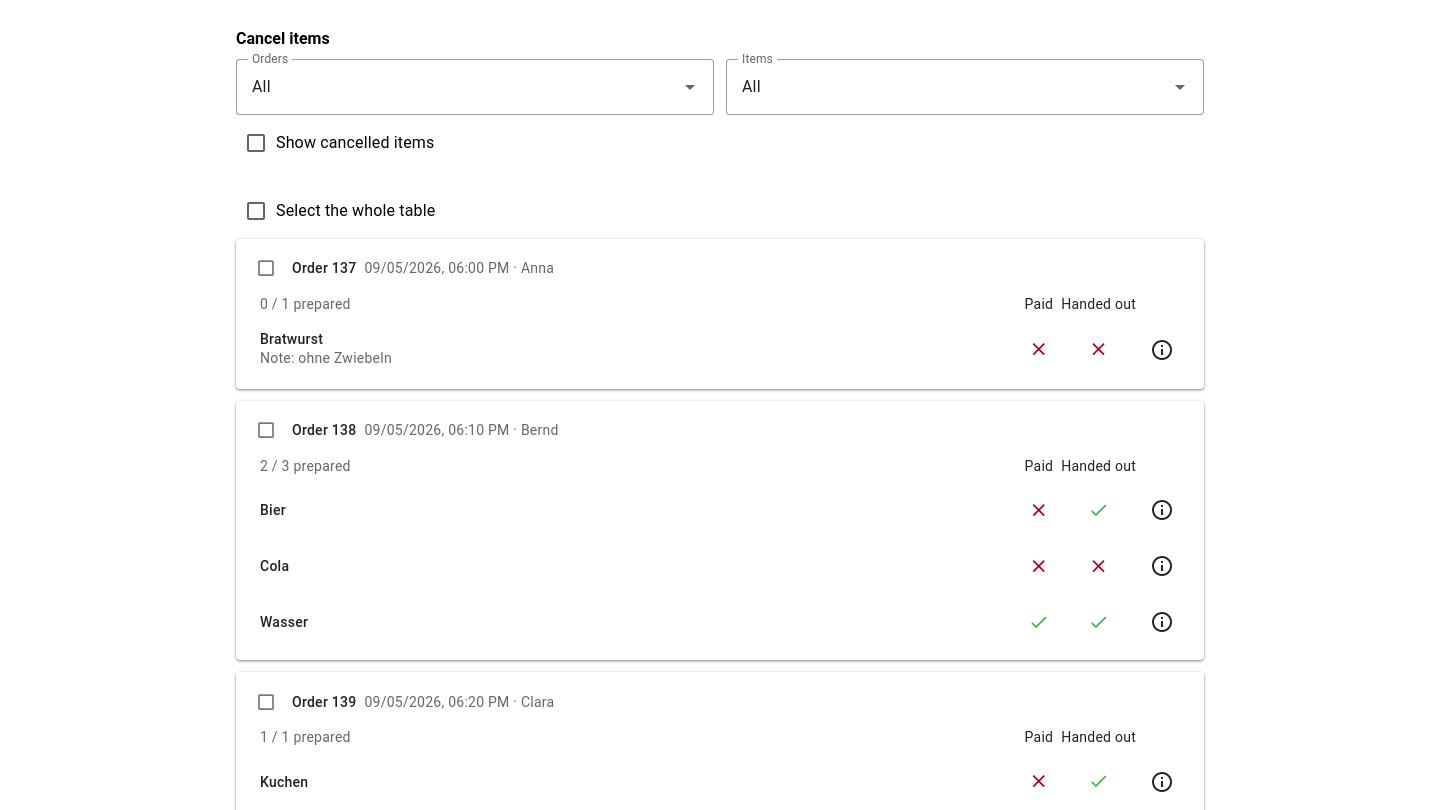
Test: the page that confirms the cancellation › says it in English on an English phone
This screenshot has width=1440, height=810.
What coordinates should you click on to do the following:
click the element showing "Wasser"
I would click on:
 (284, 622)
Its box is [252, 600, 1188, 644].
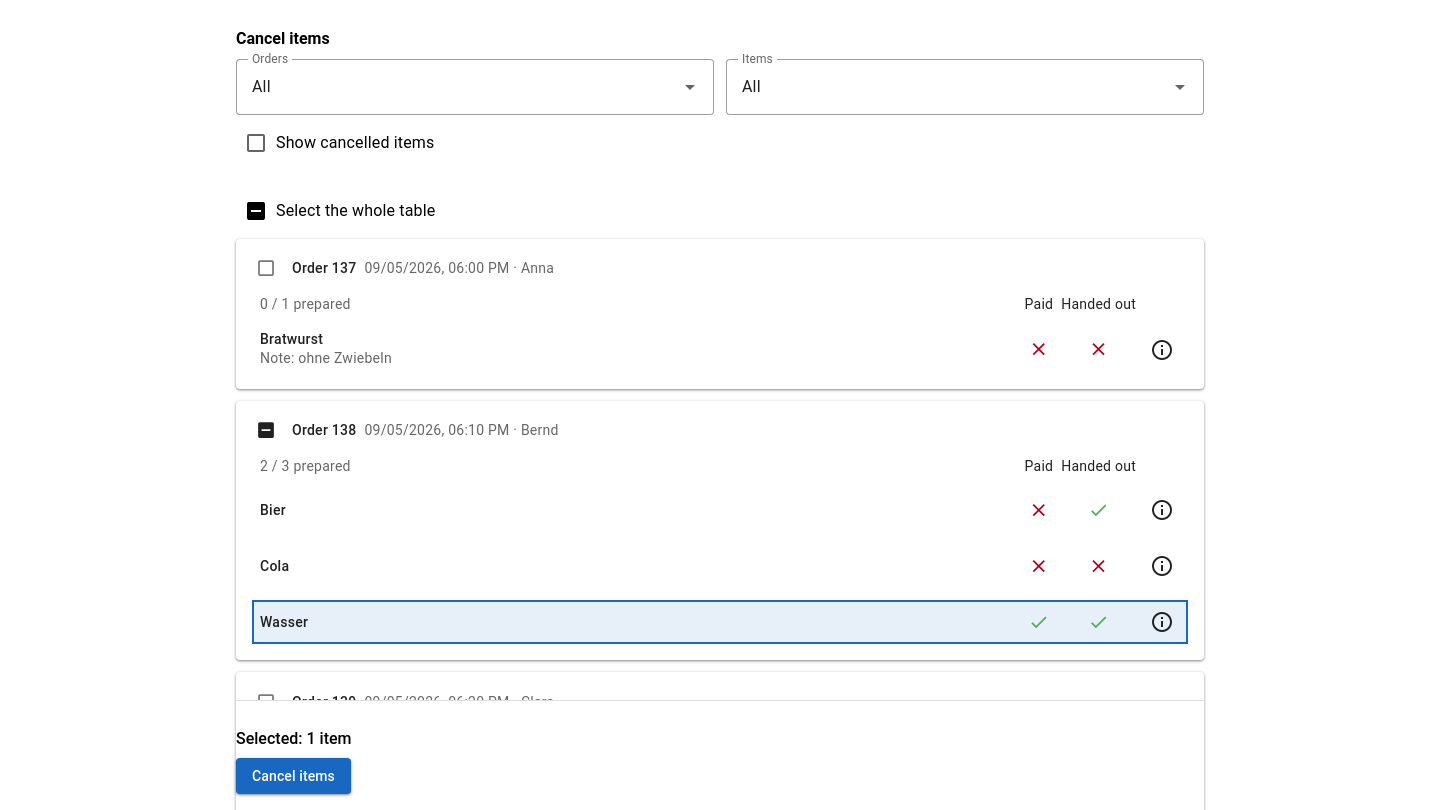
What coordinates should you click on to do the following:
click the button with test id "cancel-items"
I would click on:
 (293, 776)
Its box is [236, 758, 351, 794].
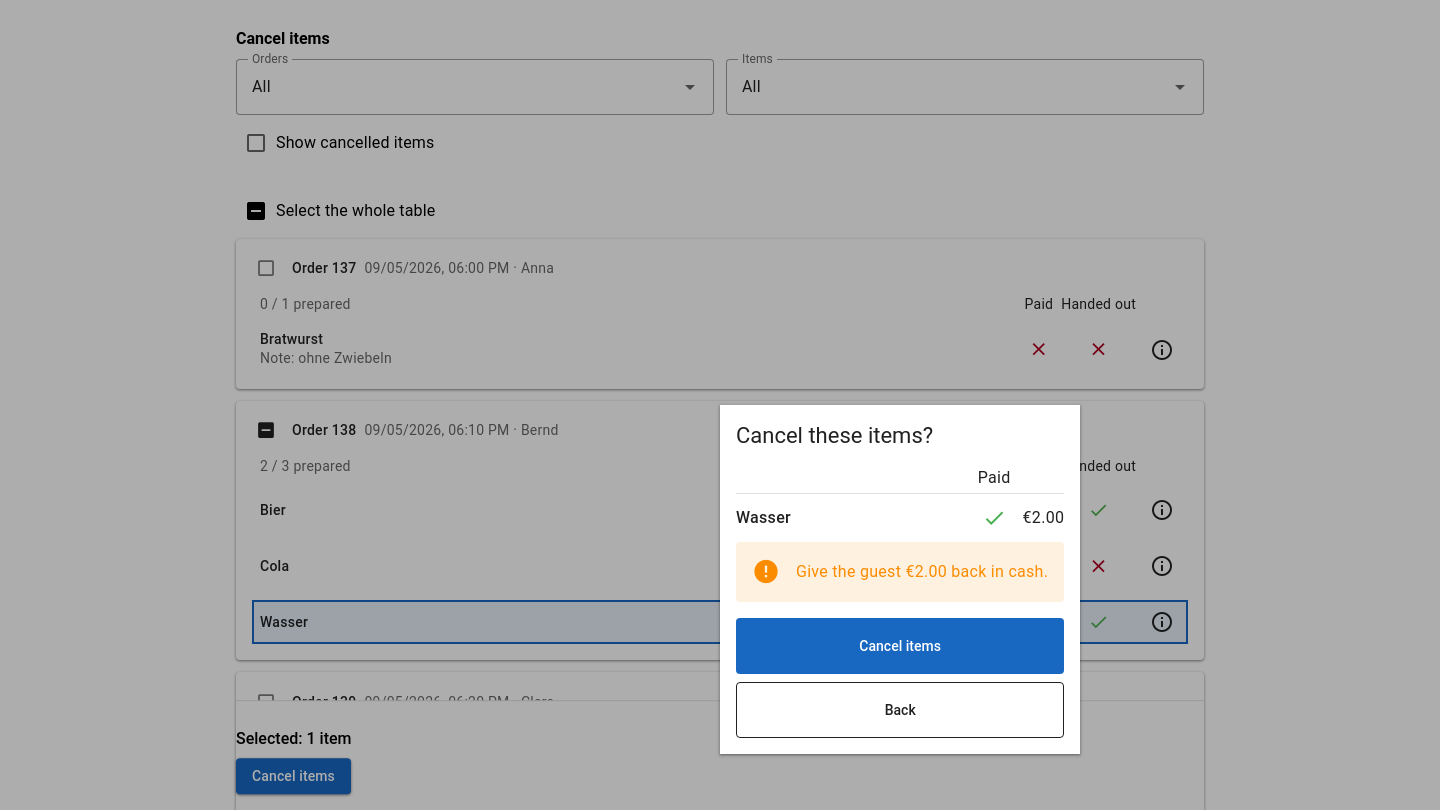
Check: the text "Give the guest €2.00 back in cash." is shown, box [796, 559, 1048, 585]
